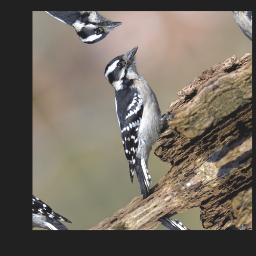Woodpecker: (67, 41, 212, 202)
